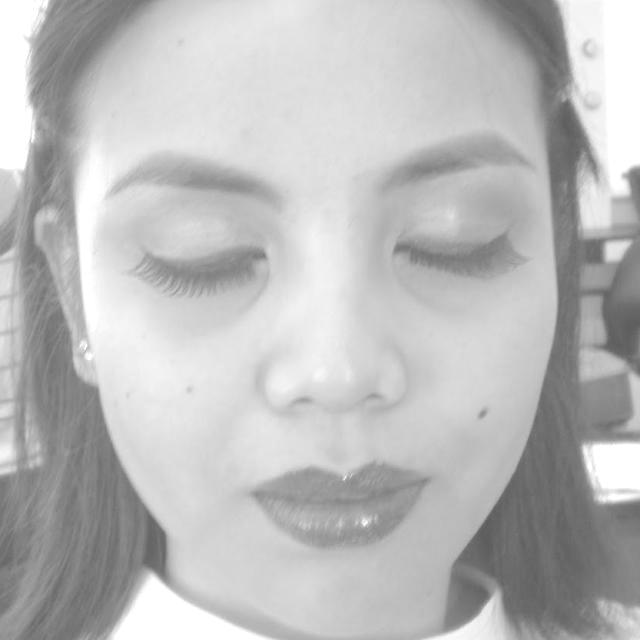real: (58, 30, 562, 608), (120, 182, 540, 330)
